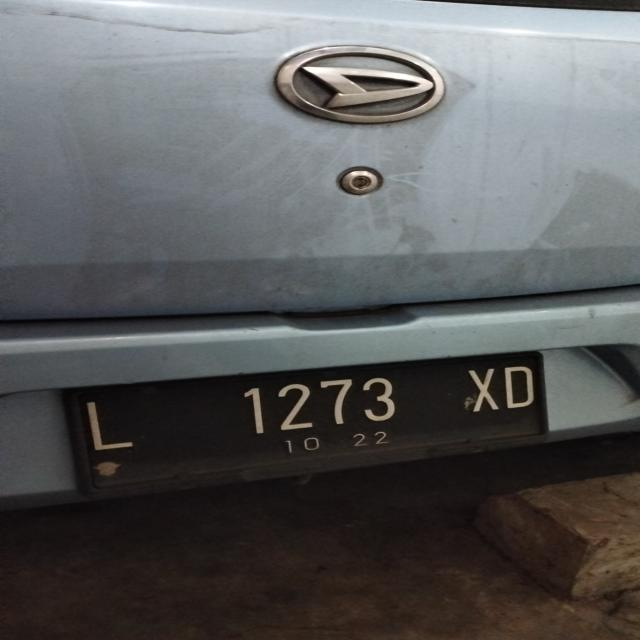1: (230, 387, 273, 440)
2: (266, 382, 319, 433)
3: (358, 374, 408, 432)
7: (318, 372, 360, 428)
D: (498, 362, 544, 414)
L: (68, 398, 146, 458)
X: (462, 368, 512, 419)
